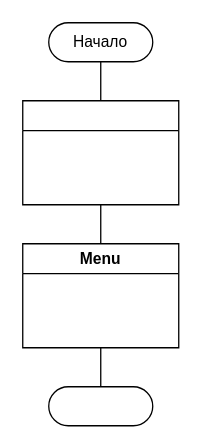
Image size: 202x448. Some labels were removed from this diagram. Here are the shapes that lost their labels. From the top down, the box of each, then its label:
(21, 99, 179, 205): AuthUser
(47, 385, 153, 426): Конец
